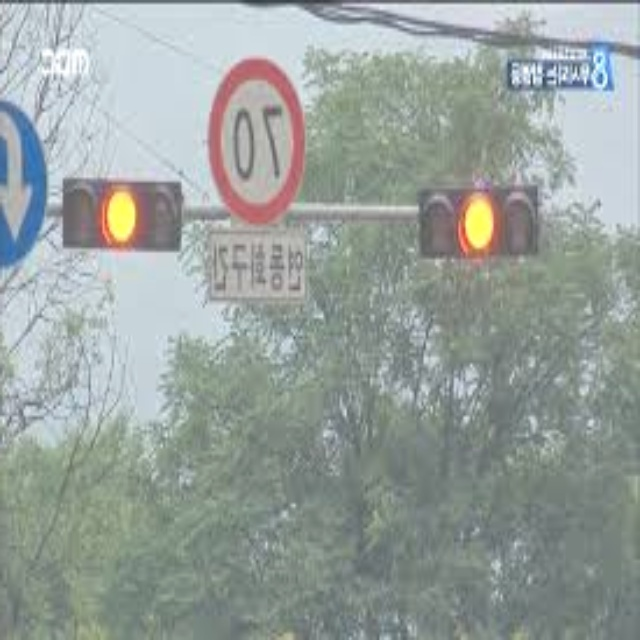yellow_light: (452, 196, 496, 258), (99, 189, 138, 241)
